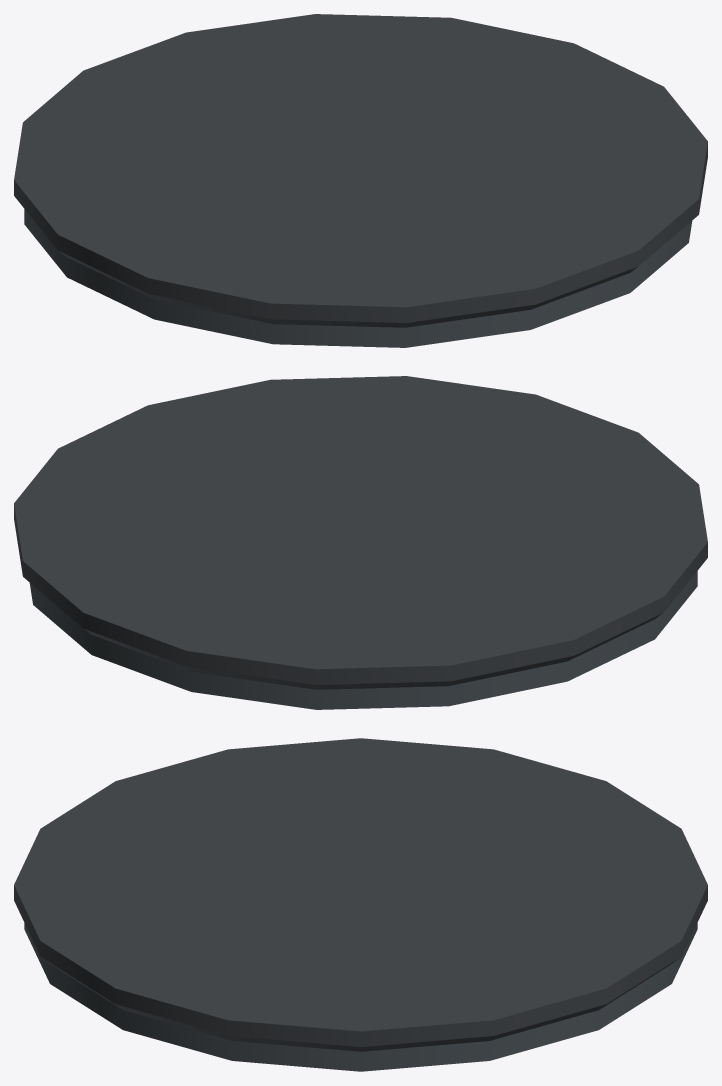
The model's file is SM_Env_Base_Ocean_01.fbx.
3 views of the same model, one above another, from view 1: azimuth 30°, elevation 25°; view 2: azimuth 150°, elevation 25°; view 3: azimuth 270°, elevation 25° (orthographic).
Parts seen in each view (by area): view 1: SM_Env_Base_Ocean_01; view 2: SM_Env_Base_Ocean_01; view 3: SM_Env_Base_Ocean_01.
Part boxes in pixels (box(x1,y1,x2,y2)): SM_Env_Base_Ocean_01: box(14, 14, 707, 347); SM_Env_Base_Ocean_01: box(14, 376, 707, 709); SM_Env_Base_Ocean_01: box(14, 738, 707, 1071).
Size of the model in its own units: 399 by 28.37 by 399.
